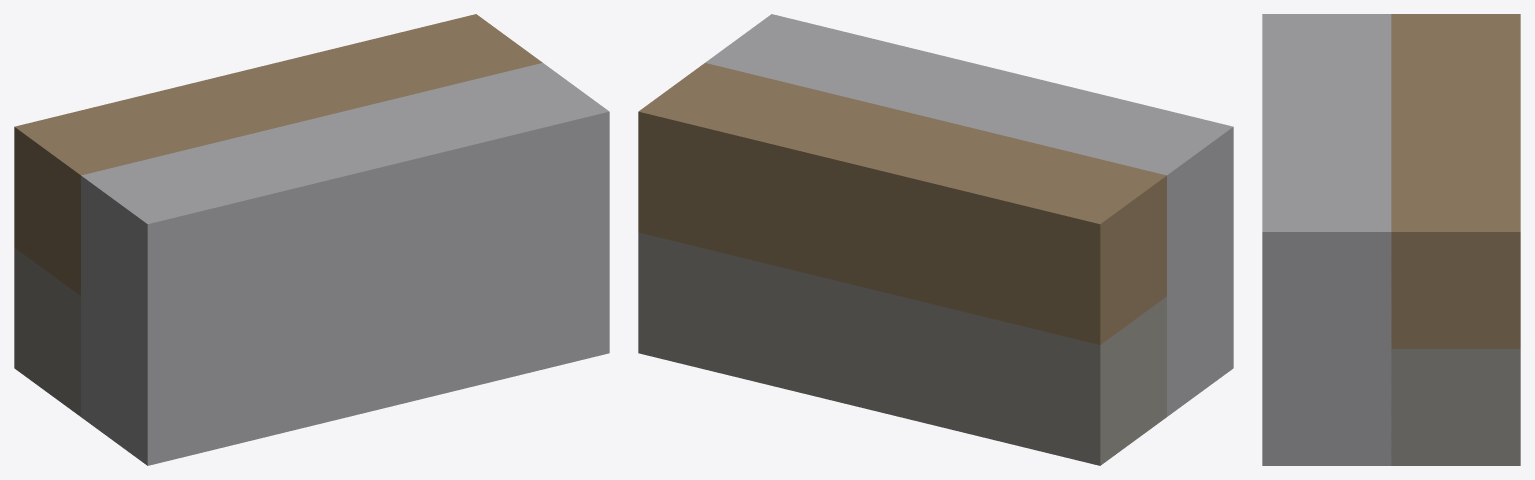
File: tijeras_podar_acero_01.glb
3 views of the same model, side by side, from view 1: azimuth 30°, elevation 25°; view 2: azimuth 150°, elevation 25°; view 3: azimuth 270°, elevation 25° (orthographic). The views are drawn at different scales.
Visible parts, largest first — view 1: tijeras_podar_acero; view 2: tijeras_podar_acero; view 3: tijeras_podar_acero.
Boxes of the visible parts, bbox=[...] form: tijeras_podar_acero: bbox=[14, 14, 609, 465]; tijeras_podar_acero: bbox=[638, 14, 1233, 465]; tijeras_podar_acero: bbox=[1262, 14, 1520, 465].
Size of the model in its own units: 0.4 by 0.2 by 0.2.
